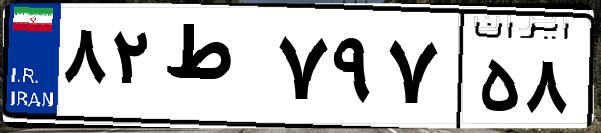2: (110, 28, 158, 98)
5: (475, 38, 525, 113)
7: (270, 28, 330, 110), (385, 28, 445, 110)
8: (57, 26, 110, 100), (525, 38, 570, 115)
9: (330, 28, 385, 110)
ط: (158, 20, 270, 120)
